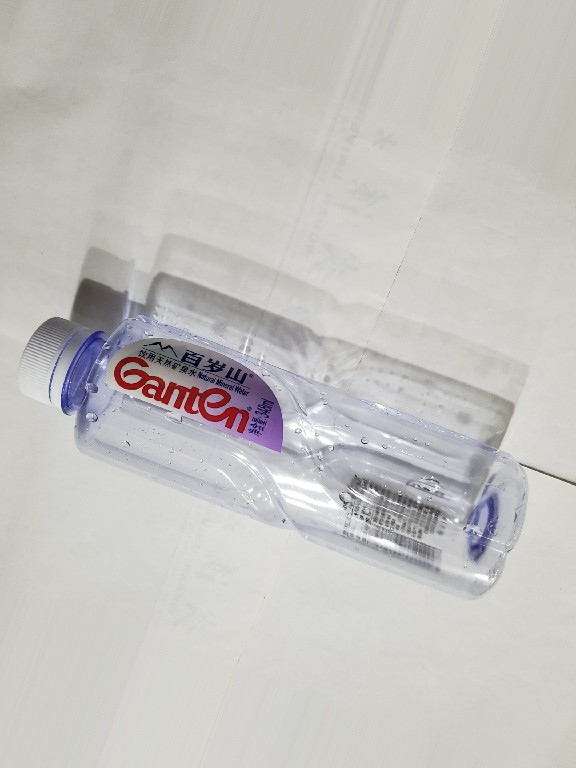bottle: (13, 311, 535, 596)
